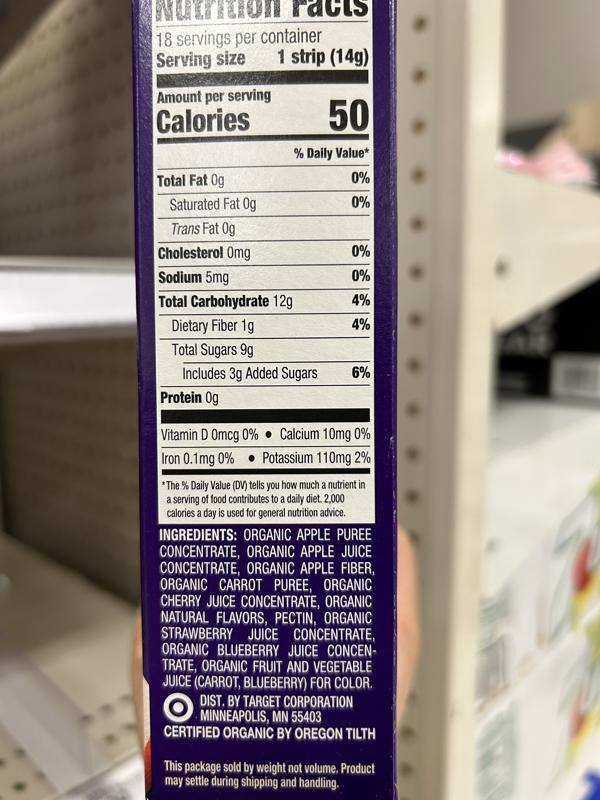ingredients: (157, 527, 377, 691)
